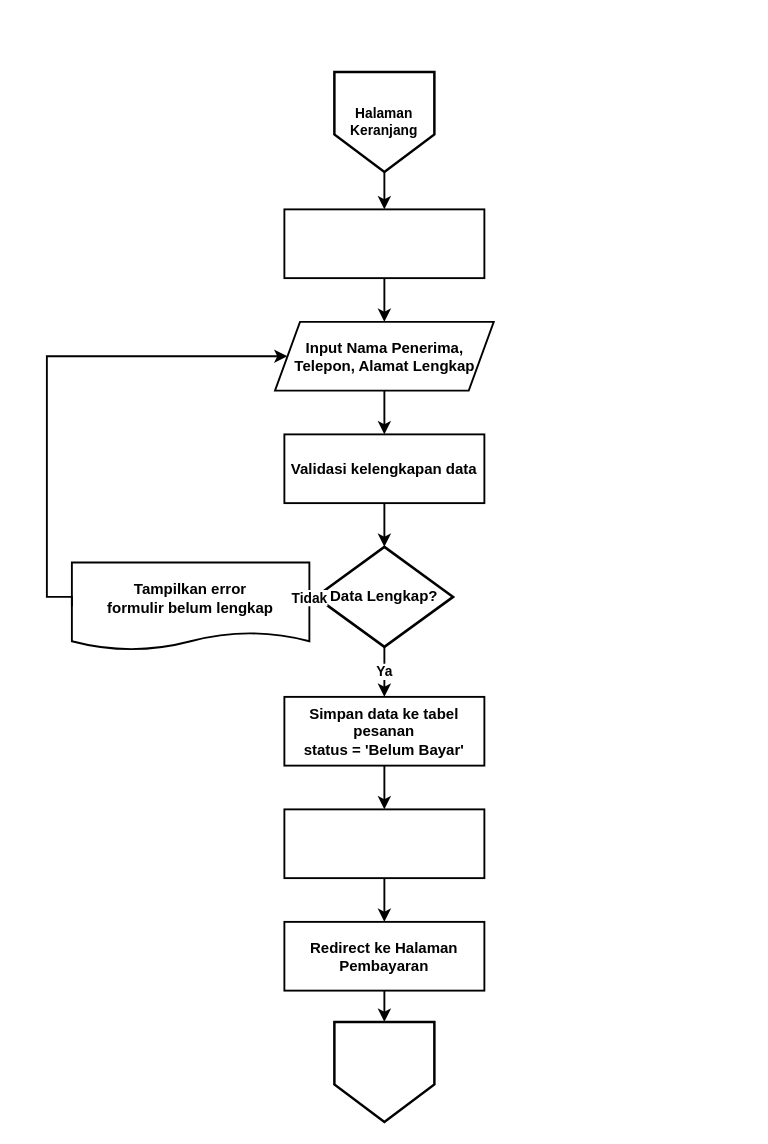
Image size: 768x1144. Some labels were removed from this diagram. The box of each missing label's shape, as (x1, y1, x2, y2) in pixels:
Buka Halaman Checkout: (283, 208, 485, 278)
Halaman Pembayaran: (332, 1020, 435, 1122)
Kosongkan keranjang belanja: (283, 808, 485, 878)
